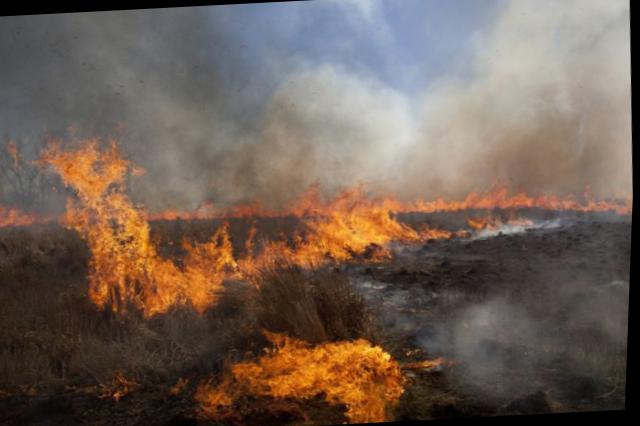fire: (0, 107, 634, 314), (177, 320, 415, 423)
